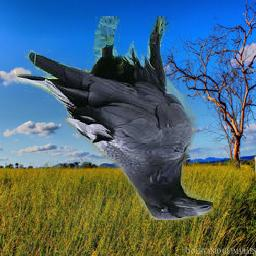Crow: (15, 16, 214, 220)
